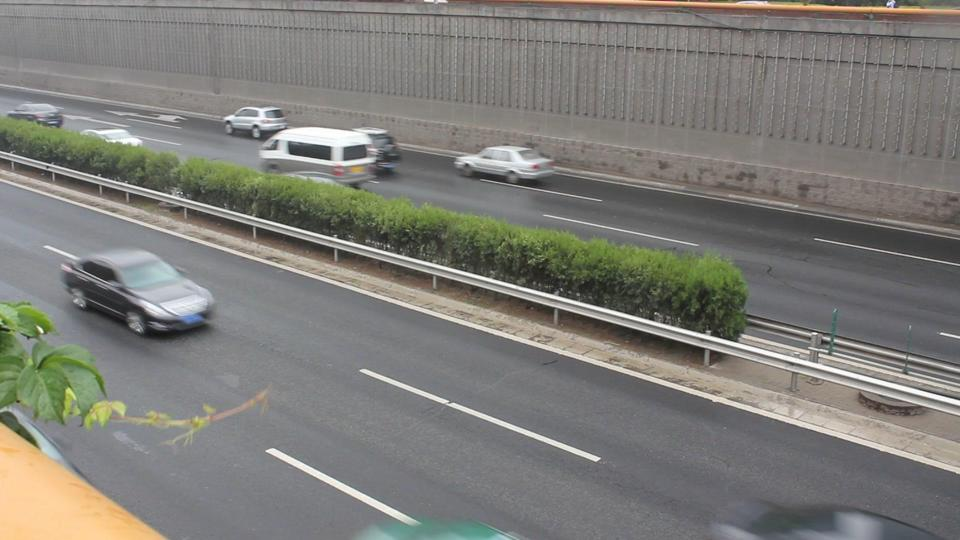Car: (65, 251, 214, 332), (243, 171, 368, 219), (450, 143, 554, 182), (70, 129, 146, 168), (222, 105, 288, 139)
Minivan: (258, 127, 376, 187), (317, 127, 404, 172)
